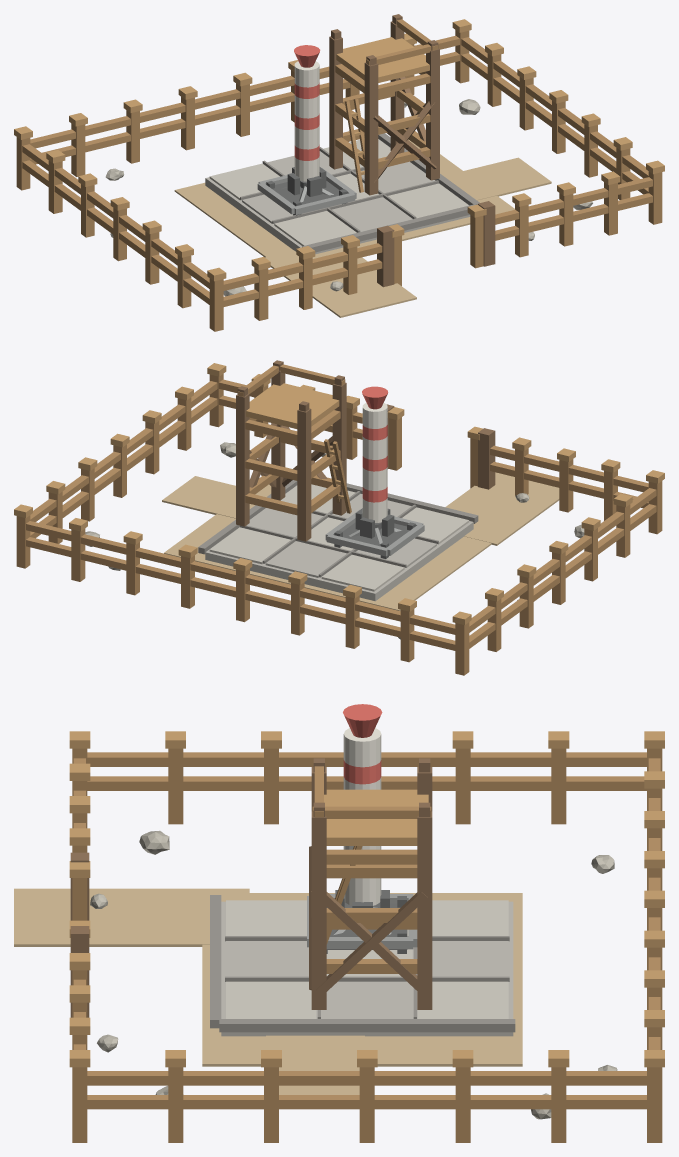
The model's file is launch_field.glb.
3 renders of one model, top to bottom at view 1: azimuth 30°, elevation 25°; view 2: azimuth 150°, elevation 25°; view 3: azimuth 270°, elevation 25°, orthographic. The views are drawn at different scales.
Visible parts, largest first — view 1: GroundPatch_worn_center_dirt, GroundPatch_front_dirt_path, Fence_back_rail_1, GroundPatch_right_dirt_scuff, Fence_back_rail_0, WoodenSupportTower_top_platform, Fence_left_rail_0, Fence_left_rail_1, Fence_right_rail_1, Fence_right_rail_0, WoodenSupportTower_post_2, ConcreteFoundation_slab_2 (+54 smaller); view 2: GroundPatch_worn_center_dirt, GroundPatch_front_dirt_path, Fence_back_rail_0, Fence_back_rail_1, WoodenSupportTower_top_platform, ConcreteFoundation_main_square_pad, Fence_left_rail_0, GroundPatch_right_dirt_scuff, Fence_left_rail_1, Fence_right_rail_1, WoodenSupportTower_post_0, Fence_right_rail_0 (+53 smaller); view 3: GroundPatch_front_dirt_path, GroundPatch_worn_center_dirt, Fence_right_rail_1, Fence_right_rail_0, Fence_left_rail_1, Fence_left_rail_0, WoodenSupportTower_top_platform, ConcreteFoundation_dark_right_edge, GroundPatch_right_dirt_scuff, ConcreteFoundation_slab_8, ConcreteFoundation_slab_7, ConcreteFoundation_slab_6 (+37 smaller).
Part boxes in pixels (<box>): GroundPatch_worn_center_dirt: <box>174,139,514,257</box>; GroundPatch_front_dirt_path: <box>265,247,416,317</box>; Fence_back_rail_1: <box>30,35,459,148</box>; GroundPatch_right_dirt_scuff: <box>444,157,551,200</box>; Fence_back_rail_0: <box>30,51,459,164</box>; WoodenSupportTower_top_platform: <box>336,37,429,82</box>; Fence_left_rail_0: <box>22,160,209,304</box>; Fence_left_rail_1: <box>22,144,209,288</box>; Fence_right_rail_1: <box>461,37,648,178</box>; Fence_right_rail_0: <box>461,53,648,194</box>; WoodenSupportTower_post_2: <box>364,62,378,195</box>; ConcreteFoundation_slab_2: <box>274,211,356,245</box>; GroundPatch_worn_center_dirt: <box>164,484,491,611</box>; GroundPatch_front_dirt_path: <box>445,472,559,545</box>; Fence_back_rail_0: <box>26,537,455,650</box>; Fence_back_rail_1: <box>26,521,455,634</box>; WoodenSupportTower_top_platform: <box>246,383,339,428</box>; ConcreteFoundation_main_square_pad: <box>205,485,473,601</box>; Fence_left_rail_0: <box>469,504,656,648</box>; GroundPatch_right_dirt_scuff: <box>162,476,269,518</box>; Fence_left_rail_1: <box>469,488,656,632</box>; Fence_right_rail_1: <box>30,381,217,521</box>; WoodenSupportTower_post_0: <box>297,408,311,541</box>; Fence_right_rail_0: <box>30,397,217,538</box>; GroundPatch_front_dirt_path: <box>14,888,249,946</box>; GroundPatch_worn_center_dirt: <box>202,893,522,1066</box>; Fence_right_rail_1: <box>87,1071,646,1085</box>; Fence_right_rail_0: <box>87,1095,646,1109</box>; Fence_left_rail_1: <box>87,752,646,766</box>; Fence_left_rail_0: <box>87,776,646,790</box>; WoodenSupportTower_top_platform: <box>324,789,428,845</box>; ConcreteFoundation_dark_right_edge: <box>219,1019,515,1032</box>; GroundPatch_right_dirt_scuff: <box>266,1035,364,1094</box>; ConcreteFoundation_slab_8: <box>226,981,316,1018</box>; ConcreteFoundation_slab_7: <box>322,981,412,1018</box>; ConcreteFoundation_slab_6: <box>418,981,508,1018</box>.
Bounding box in the file's own units: 8.22 × 2.86 × 6.91.
